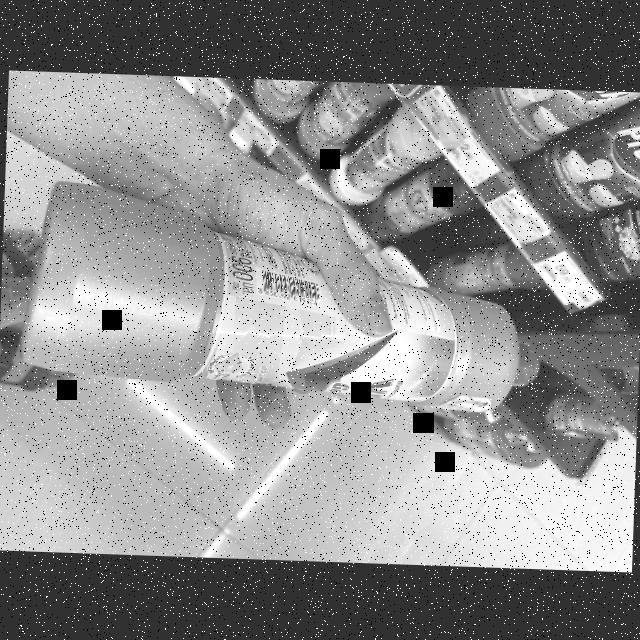chemical_plastic_bottle: (17, 166, 567, 417)
